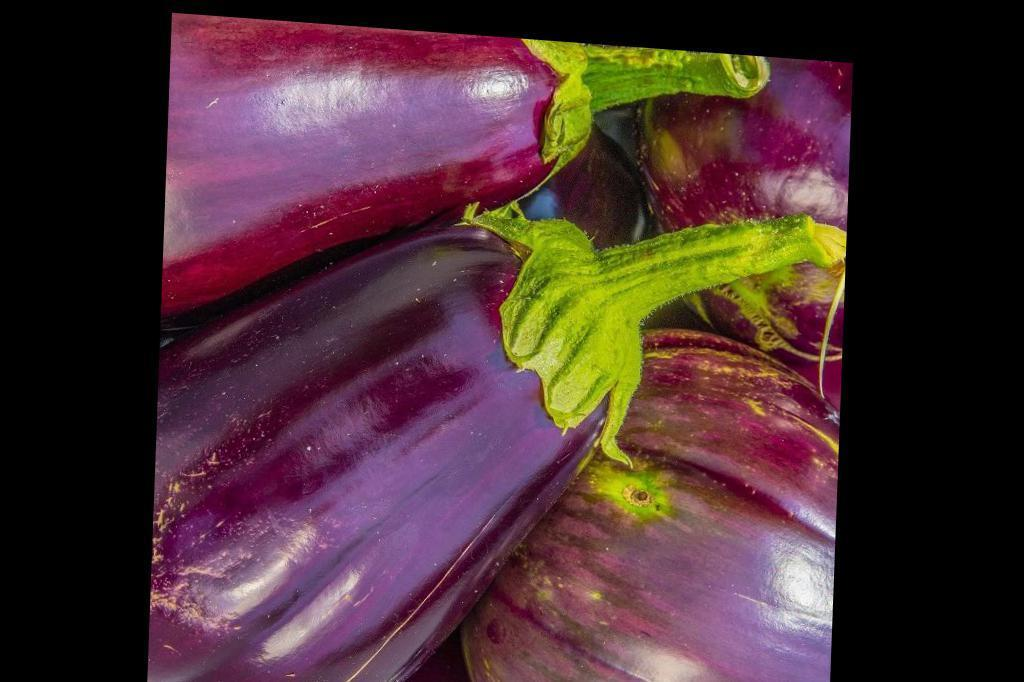eggplant: (151, 136, 809, 681), (162, 10, 765, 340)
